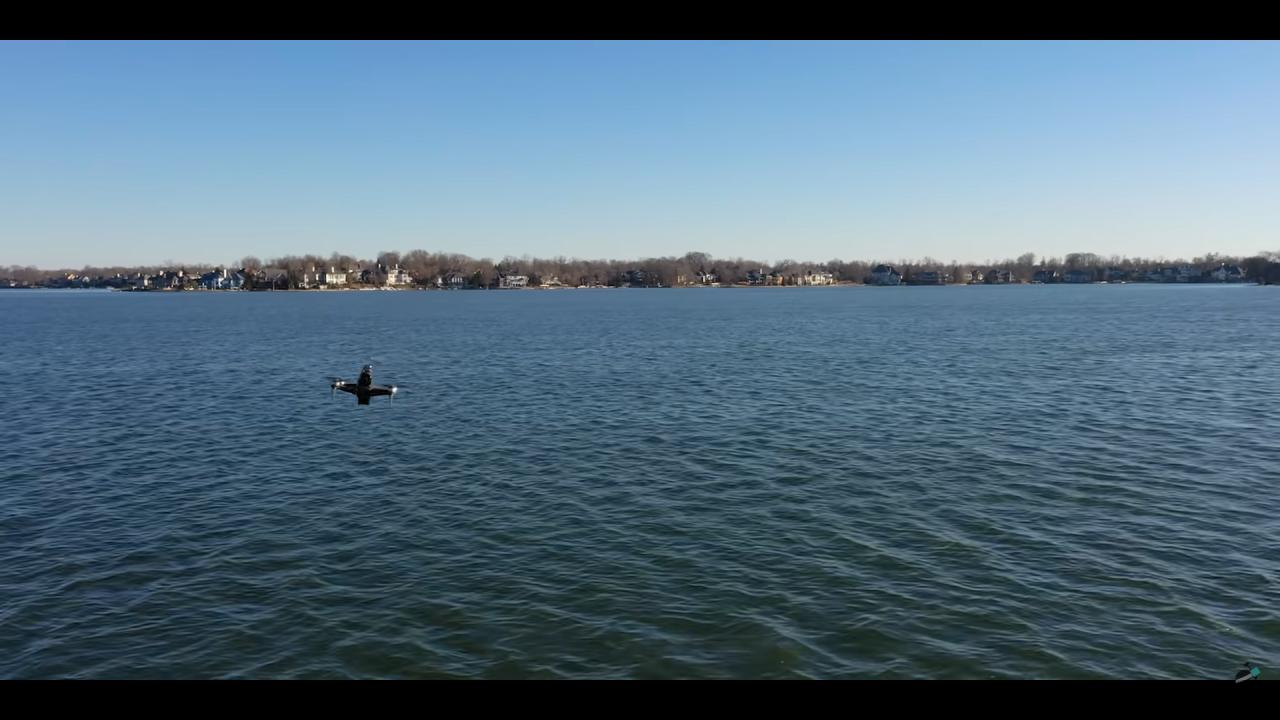Drone: (316, 351, 408, 412)
